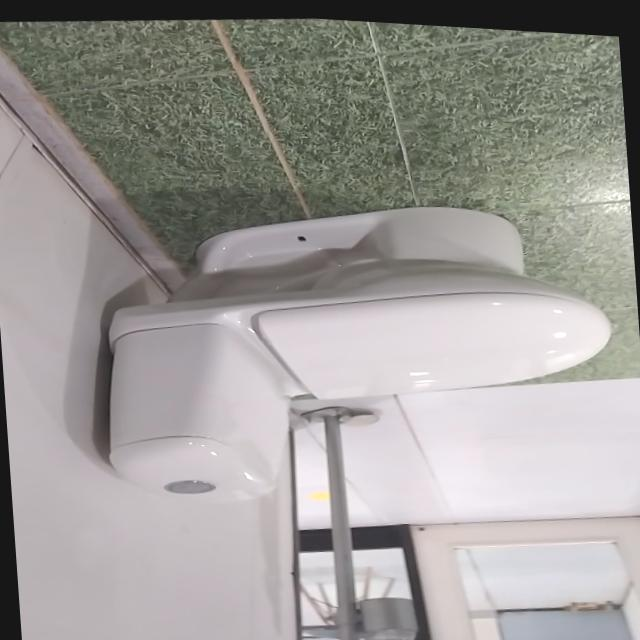toilet: (90, 172, 622, 527)
